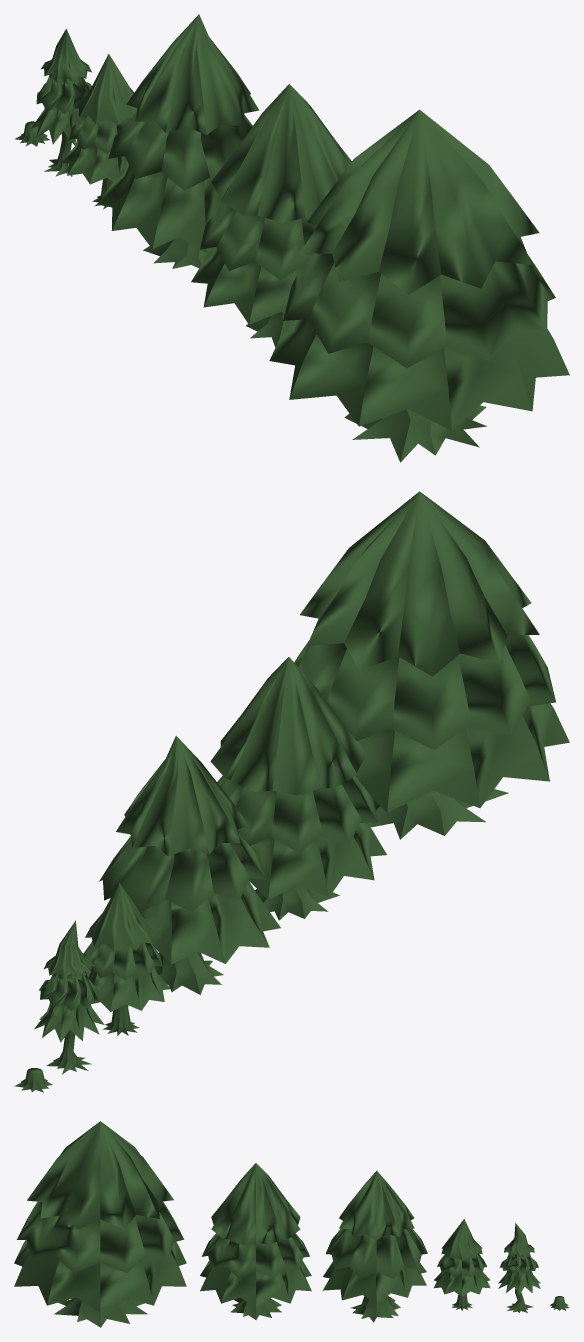
Rendered from trees.fbx.
3 views of the same model, one above another, from view 1: azimuth 30°, elevation 25°; view 2: azimuth 150°, elevation 25°; view 3: azimuth 270°, elevation 25° (orthographic). The views are drawn at different scales.
Parts seen in each view (by area): view 1: pCylinder4.001, pCylinder4.002, pCylinder4, pCylinder3, pCylinder3.001; view 2: pCylinder4.001, pCylinder4, pCylinder4.002, pCylinder3, pCylinder3.001; view 3: pCylinder4.001, pCylinder4, pCylinder4.002, pCylinder3, pCylinder3.001.
Boxes of the visible parts, left/top/right/bottom form: pCylinder4.001: left=269, top=109, right=569, bottom=462; pCylinder4.002: left=97, top=14, right=259, bottom=268; pCylinder4: left=191, top=84, right=351, bottom=347; pCylinder3: left=61, top=54, right=137, bottom=209; pCylinder3.001: left=31, top=29, right=91, bottom=176; pCylinder4.001: left=294, top=491, right=569, bottom=839; pCylinder4: left=210, top=657, right=386, bottom=920; pCylinder4.002: left=99, top=736, right=280, bottom=994; pCylinder3: left=83, top=883, right=170, bottom=1035; pCylinder3.001: left=34, top=920, right=104, bottom=1074; pCylinder4.001: left=14, top=1121, right=186, bottom=1327; pCylinder4: left=200, top=1163, right=311, bottom=1319; pCylinder4.002: left=323, top=1170, right=427, bottom=1322; pCylinder3: left=434, top=1219, right=490, bottom=1310; pCylinder3.001: left=498, top=1223, right=540, bottom=1312.
Bounding box in the file's own units: 802 × 928 × 2489.
